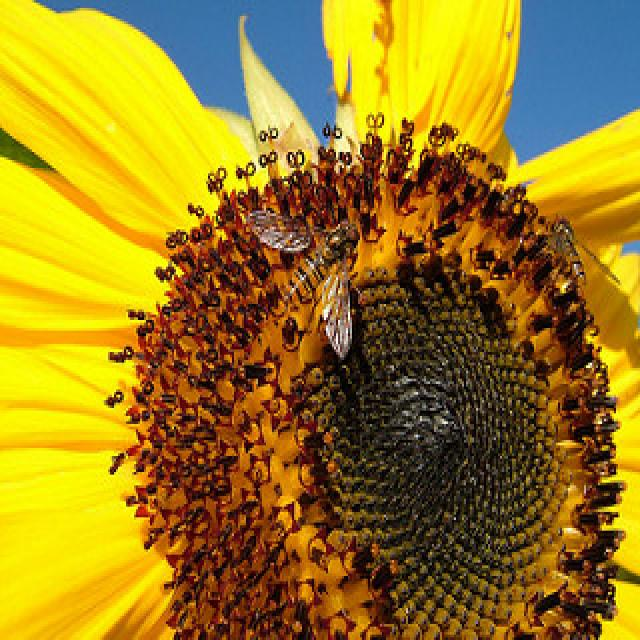sunflower: (3, 8, 637, 640)
